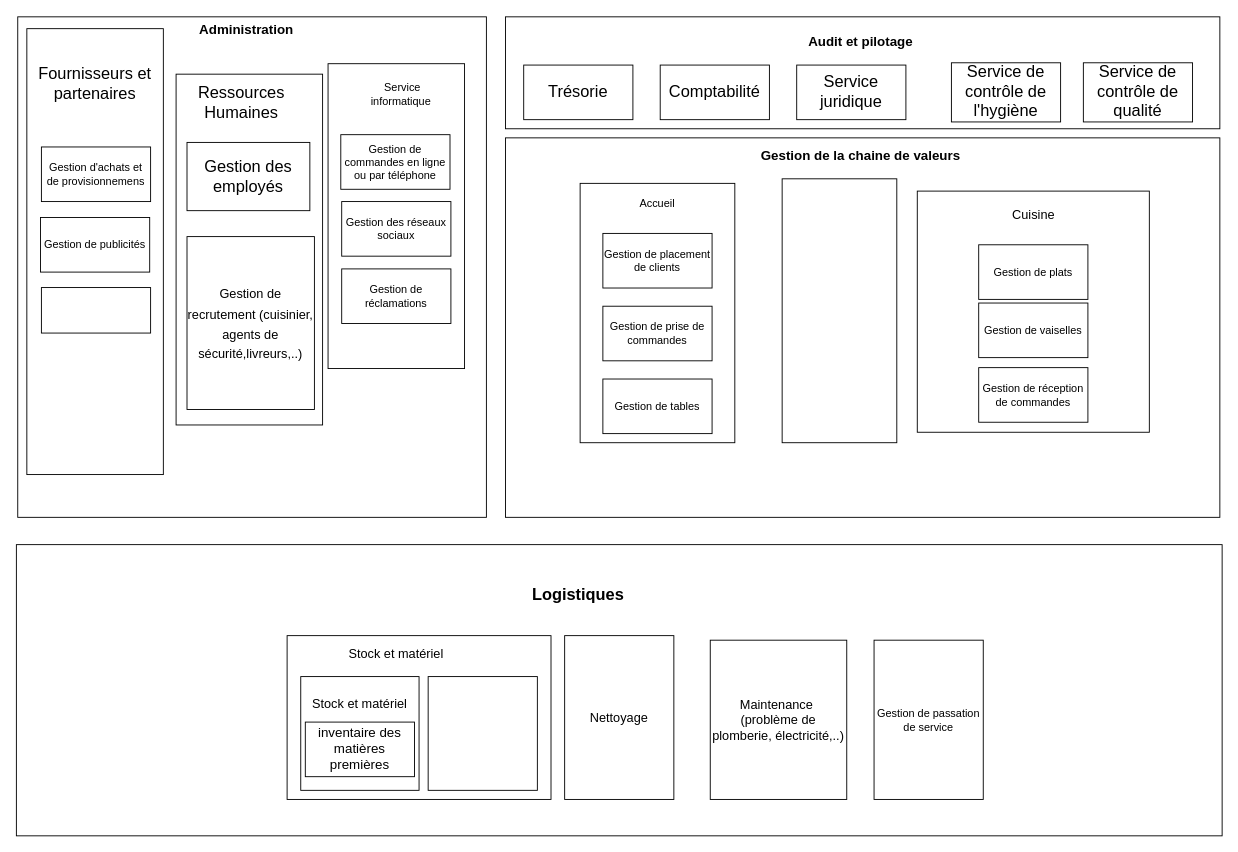
The diagram is 1238 pixels wide and 852 high, and some of its shapes have lost their labels. Each missing label, with the centre of its shape:
Gestion d'actions sociales: the point at 95,310
Gestion des livraisons: the point at 839,310
Gestion du matériel (chaines, tables,...): the point at 482,733
